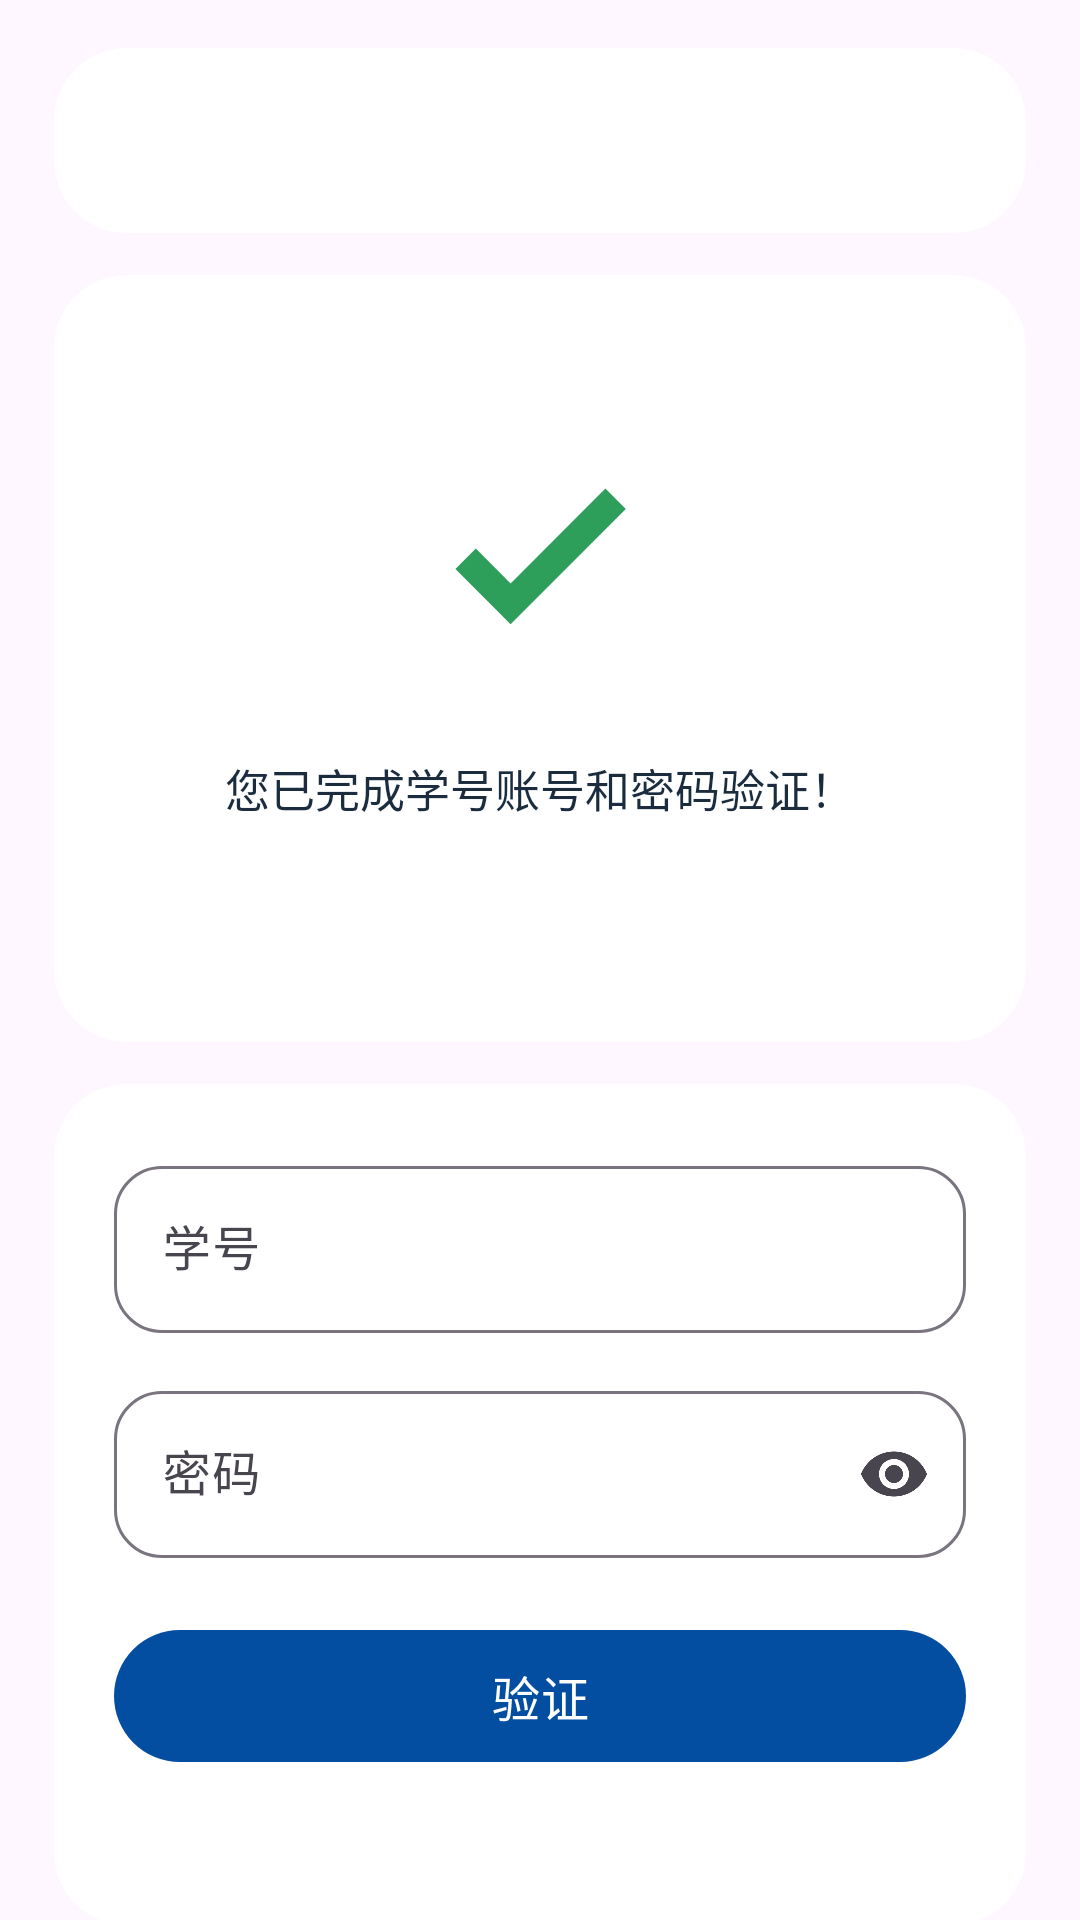

Icon click points for this 1080*1920 phone screenshot, format point (x, y):
check: point (540, 556)
